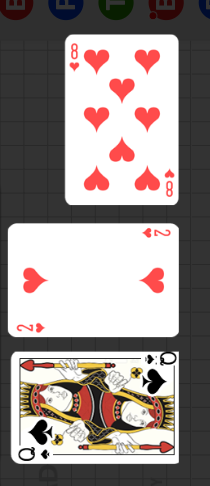2H: (16, 321, 47, 334)
8H: (163, 166, 176, 198), (69, 42, 81, 73)
